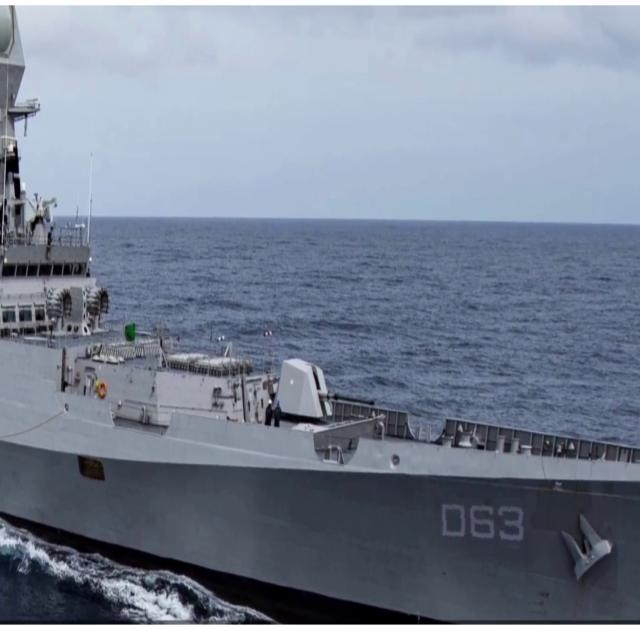OCR: (437, 498, 525, 558)
